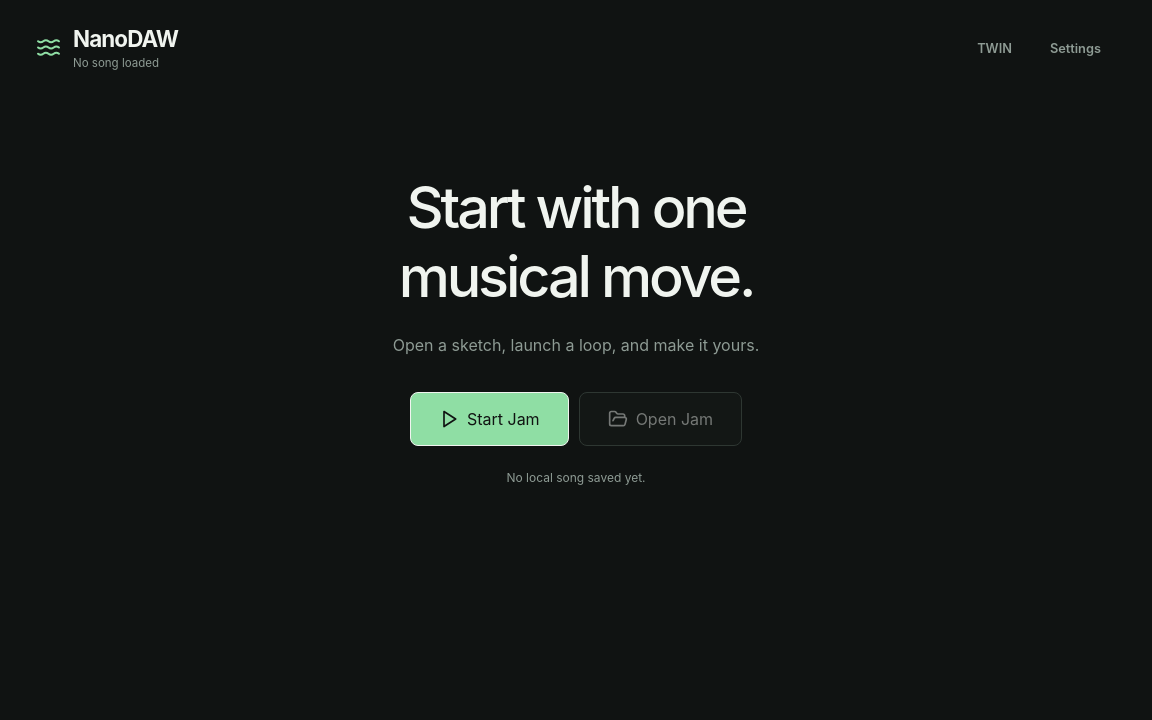
Test: Playground › presents standalone mode without claiming optional targets are connected
Step 1. Click the button "Settings" → {"x": 1075, "y": 48}, box [1035,26,1116,70]
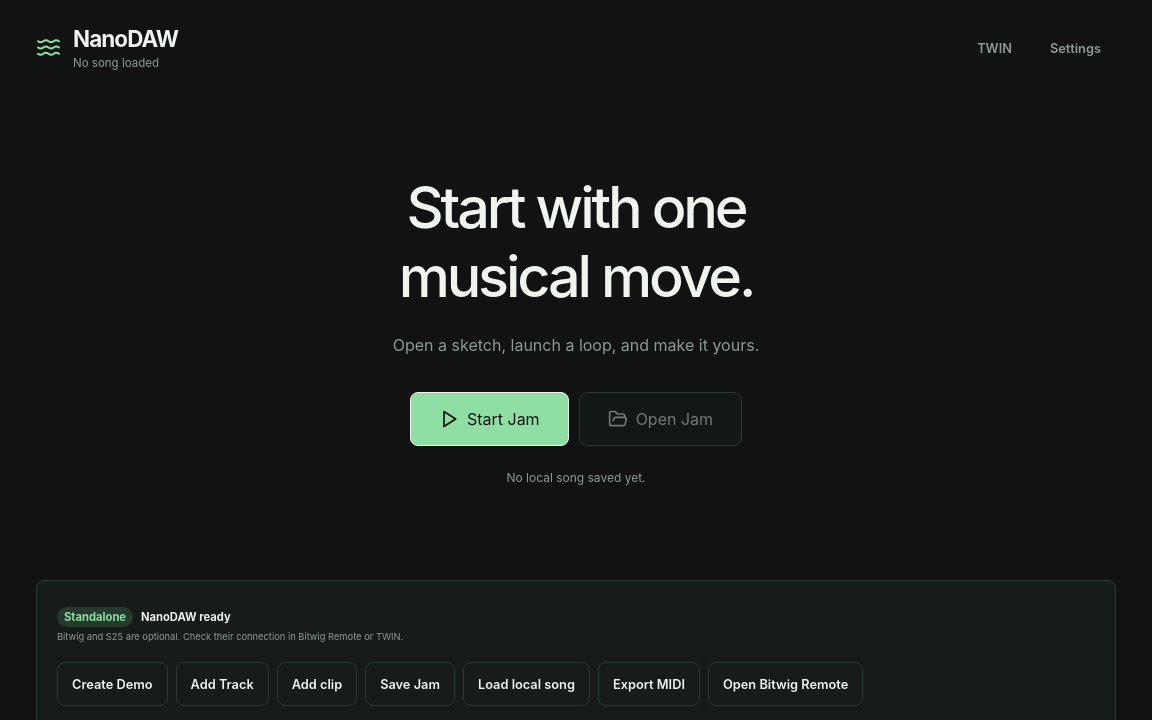
Expected: the element named "Runtime mode" shows "Standalone", [64,610,126,624]
Expected: the element named "Runtime mode" shows "NanoDAW ready", [141,610,231,624]
Expected: the element named "Runtime mode" shows "Bitwig and S25 are optional. Check their connection in Bitwig Remote or TWIN.", [57,631,403,642]
